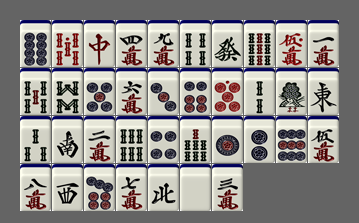0m: (276, 20, 307, 67)
0p: (212, 68, 243, 115)
0s: (52, 20, 83, 67)
1m: (308, 20, 339, 67)
1p: (212, 116, 243, 163)
1s: (276, 68, 307, 115)
1z: (308, 68, 339, 115)
2m: (84, 116, 115, 163)
2p: (244, 116, 275, 163)
2s: (244, 68, 275, 115)
2z: (52, 116, 83, 163)
3m: (212, 164, 243, 211)
3p: (148, 68, 179, 115)
3s: (20, 116, 51, 163)
3z: (52, 164, 83, 211)
4m: (116, 20, 147, 67)
4p: (148, 116, 179, 163)
4s: (180, 20, 211, 67)
4z: (148, 164, 179, 211)
5m: (308, 116, 339, 163)
5p: (84, 68, 115, 115)
5s: (20, 68, 51, 115)
5z: (180, 164, 211, 211)
6m: (116, 68, 147, 115)
6p: (180, 68, 211, 115)
6s: (116, 116, 147, 163)
6z: (212, 20, 243, 67)
7m: (116, 164, 147, 211)
7p: (84, 164, 115, 211)
7s: (180, 116, 211, 163)
7z: (84, 20, 115, 67)
8m: (20, 164, 51, 211)
8p: (20, 20, 51, 67)
8s: (52, 68, 83, 115)
9m: (148, 20, 179, 67)
9p: (276, 116, 307, 163)
9s: (244, 20, 275, 67)
